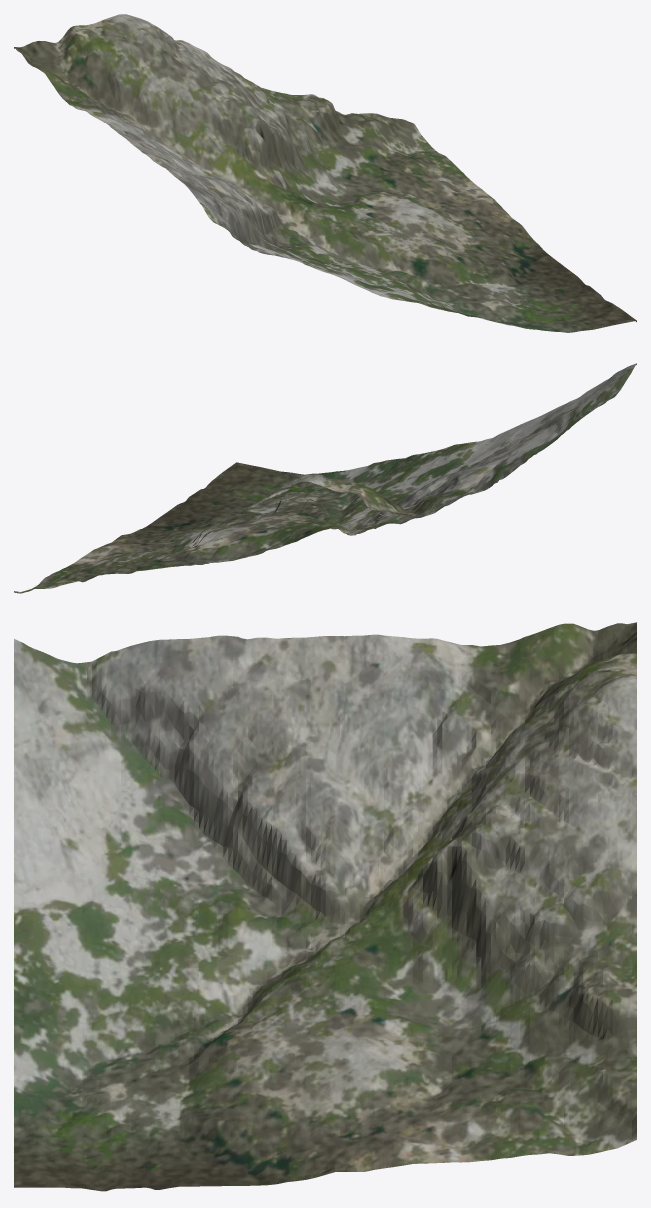
3 views of the same model, one above another, from view 1: azimuth 30°, elevation 25°; view 2: azimuth 150°, elevation 25°; view 3: azimuth 270°, elevation 25° (orthographic). The views are drawn at different scales.
Size of the model in its own units: 250 by 132 by 241.
Materials: 1 (1 with a texture image).
